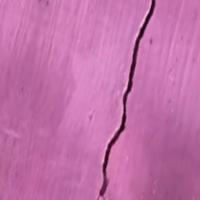crack: (86, 0, 176, 199)
